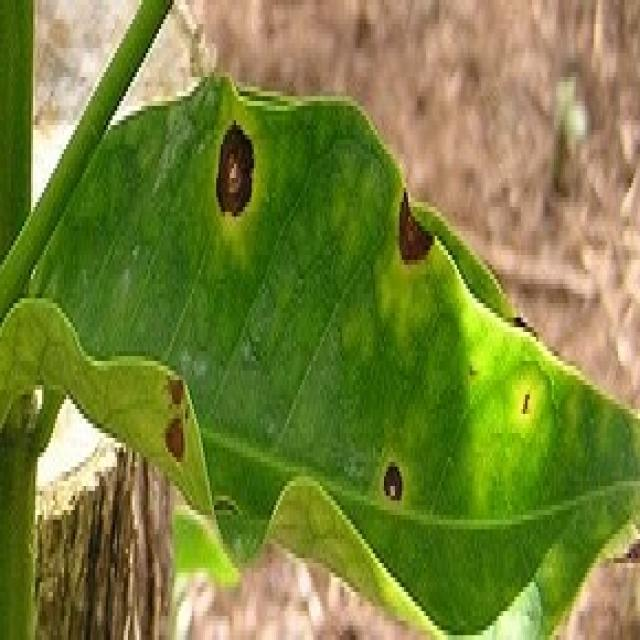Enfermedad-Mancha-de-hierro: (0, 72, 640, 640)
